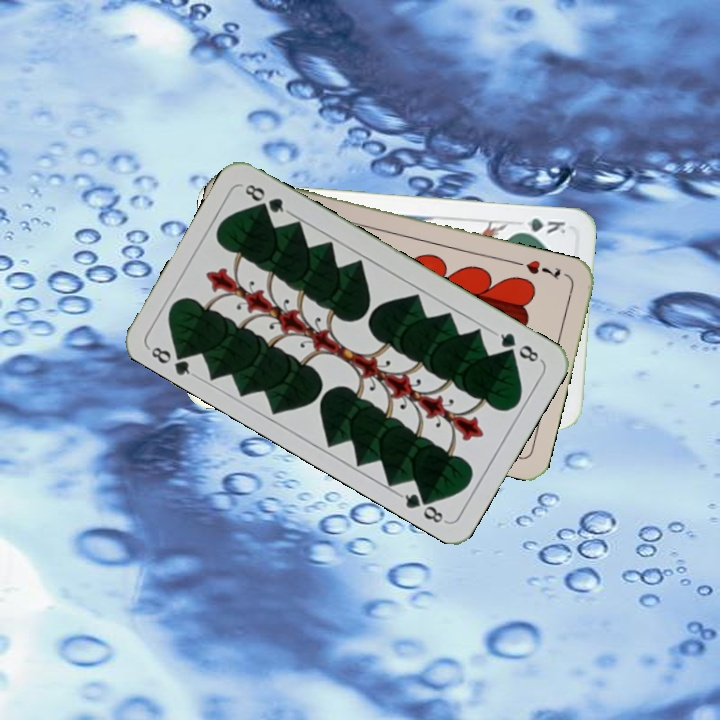G8: (144, 342, 198, 380), (490, 328, 544, 365)
GK: (511, 213, 568, 236)
H7: (511, 255, 563, 283)
